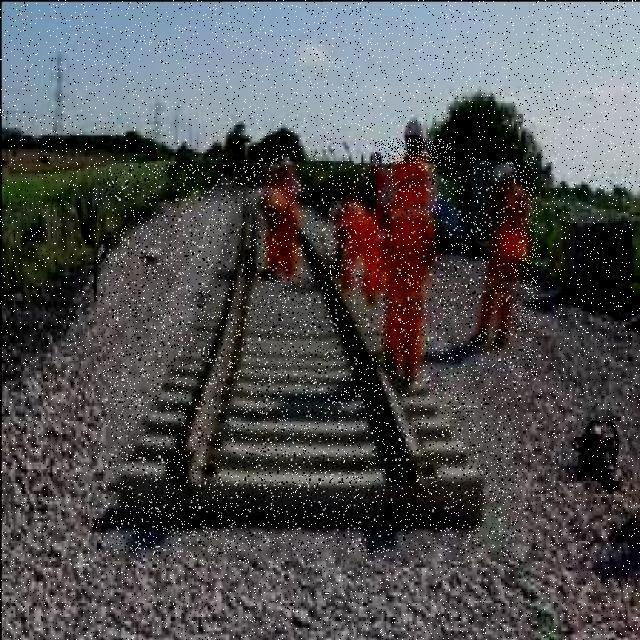danger: (374, 139, 455, 367), (469, 158, 538, 377), (255, 145, 314, 289), (334, 169, 388, 323)
rail: (105, 164, 520, 555)
